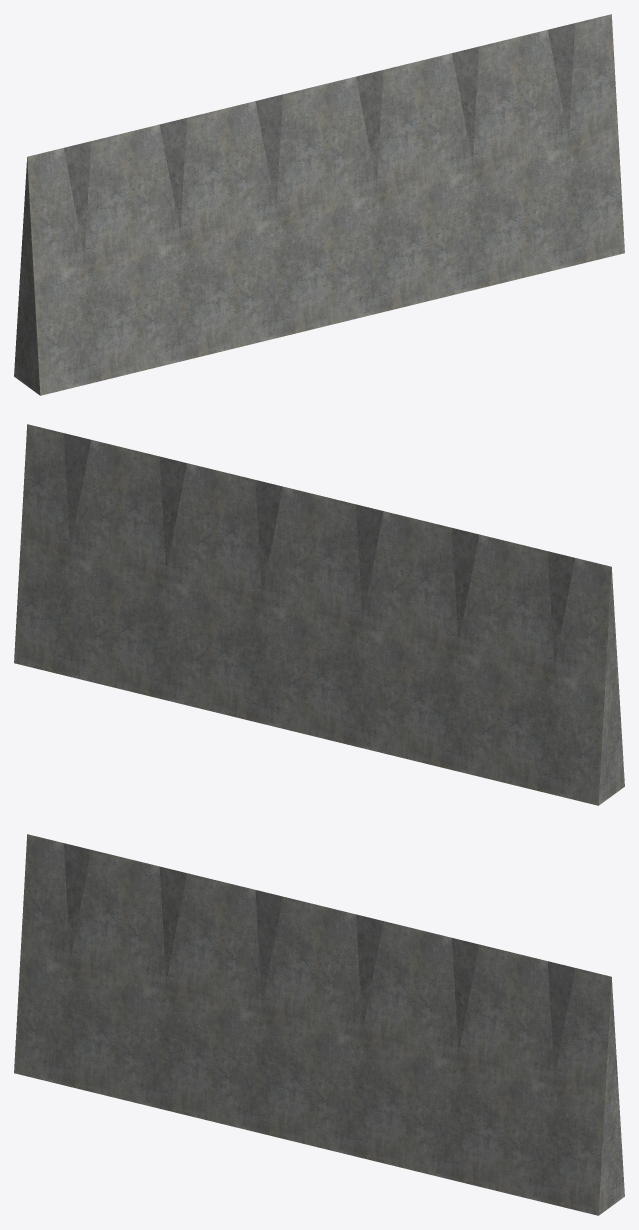
The model's file is mun_all_military_wall_weak_impl_16_s01_l2.fbx.
3 renders of one model, top to bottom at view 1: azimuth 30°, elevation 25°; view 2: azimuth 150°, elevation 25°; view 3: azimuth 330°, elevation 25°, orthographic.
Visible parts, largest first — view 1: mesh_node; view 2: mesh_node; view 3: mesh_node.
Part boxes in pixels (x1,y1,x2,y2): mesh_node: (14,14,624,395); mesh_node: (14,424,624,805); mesh_node: (14,834,624,1215).
Size of the model in its own units: 16 by 6 by 1.25.
